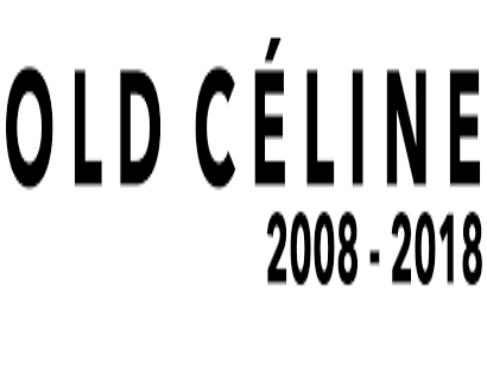CELINE: (194, 18, 487, 192)
